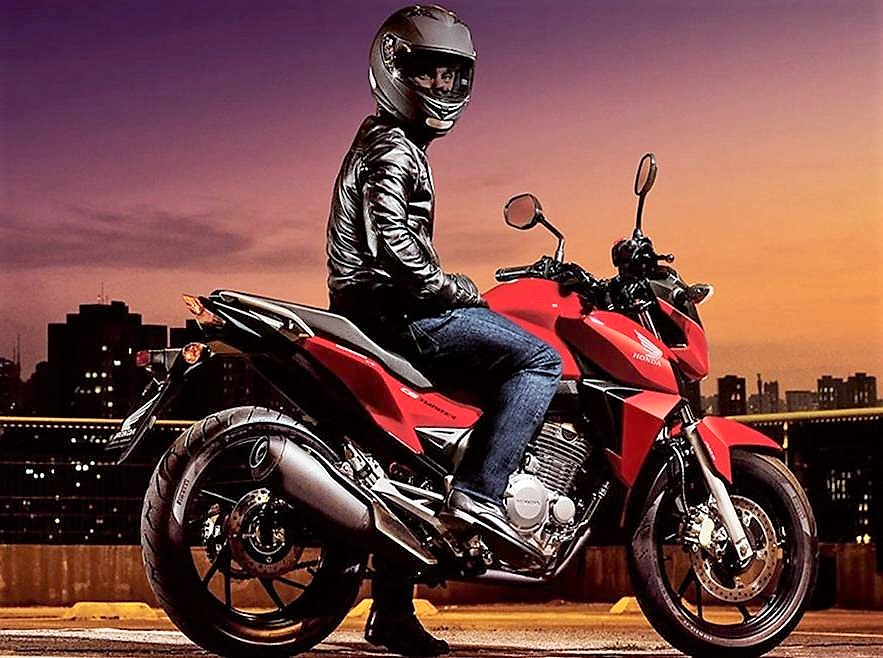helmet: (366, 7, 481, 123)
